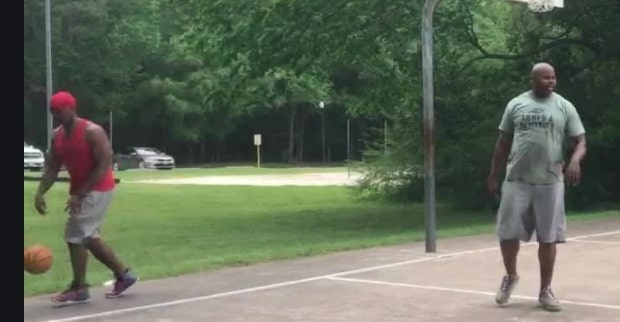Good: (34, 61, 587, 313)
